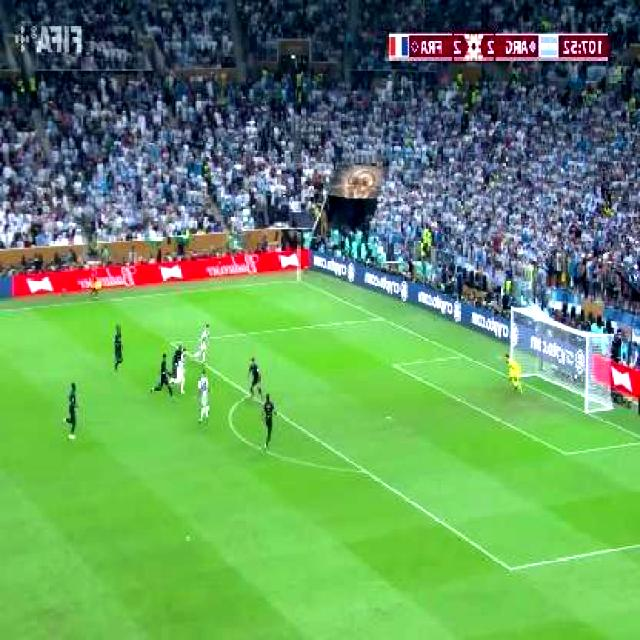bigarea_bottom_inner: (502, 555, 522, 580)
bigarea_top_inner: (168, 334, 180, 351)
bigarea_top_outter: (374, 309, 388, 325)
bottom_arc_area_intersection: (355, 458, 374, 480)
corner: (291, 272, 306, 286)
smallarea_bottom_inner: (557, 440, 575, 465)
smallarea_top_inner: (388, 355, 403, 374)
smallarea_top_outter: (456, 346, 470, 363)
top_arc_area_intersection: (243, 384, 255, 402)
